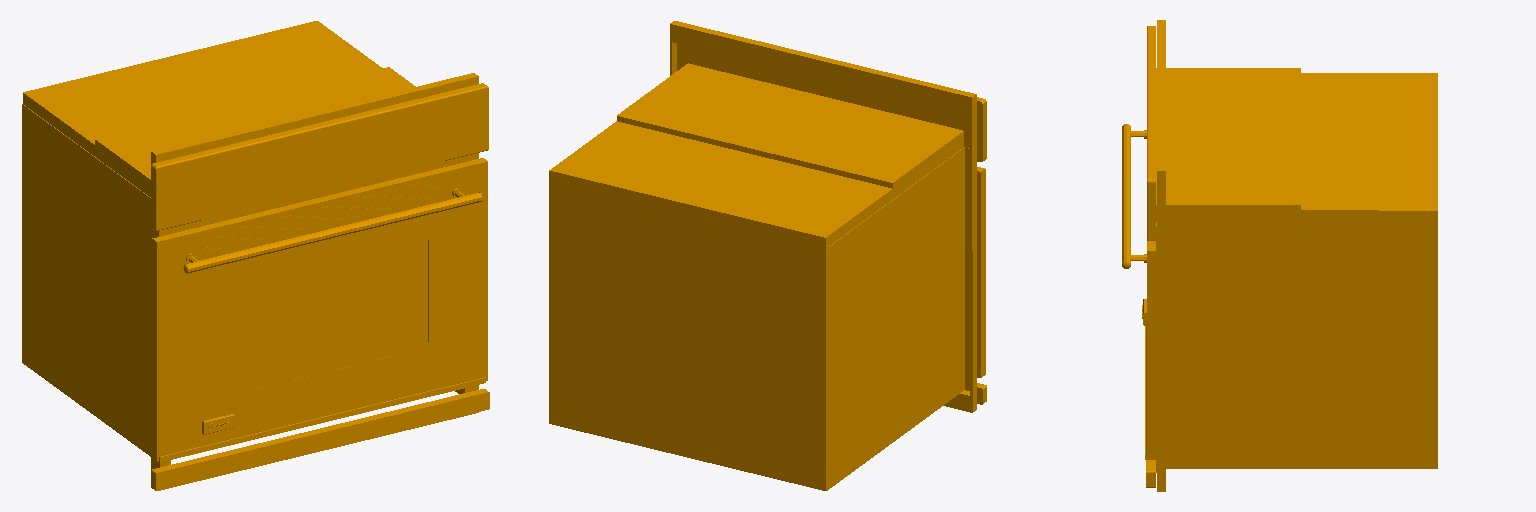
The robot description file, URDF, robot "none":
<robot name="none">
       <link name="none">
           <visual>
               <origin rpy="1.57 0 0" xyz="0 0 0" />
               <geometry>
                   <mesh filename="oven.obj" />
               </geometry>
           </visual>
          <collision>
              <geometry>
                  <box size="1.000000 0.962759 0.858928" />
              </geometry>
          </collision>

          <inertial>
            <mass value="0.0" />
            <inertia ixx="0.0" ixy="0.0" ixz="0.0" iyy="0.0" iyz="0.0" izz="0.0" />
          </inertial>
      </link>
  </robot>

--- What the picture shows (computed from the rendered views, not written in the file) ---
3 views of the same robot in one strip: view 1: azimuth 30°, elevation 25°; view 2: azimuth 150°, elevation 25°; view 3: azimuth 270°, elevation 25° (orthographic).
Robot: none — 1 links, 0 joints (none); root link none; default pose: all joints at 0.
Links seen in each view (by area): view 1: none; view 2: none; view 3: none.
Link boxes in pixels (x1=…): none: x1=22, y1=21, x2=489, y2=490; none: x1=549, y1=21, x2=986, y2=490; none: x1=1122, y1=20, x2=1437, y2=491.
Size in the robot's own frame: 1 by 0.8591 by 0.9628 metres.
Meshes: 1 distinct files referenced, 1 mesh visuals loaded (1 OBJ).
